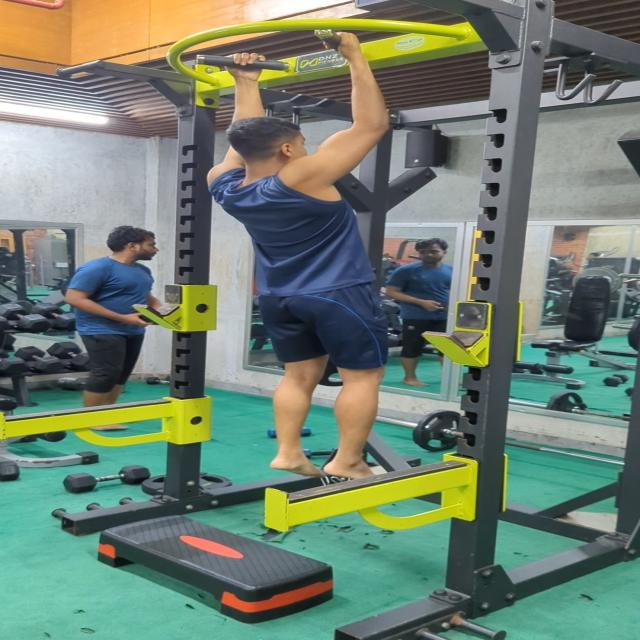Normal_PullUps: (200, 28, 398, 486)
